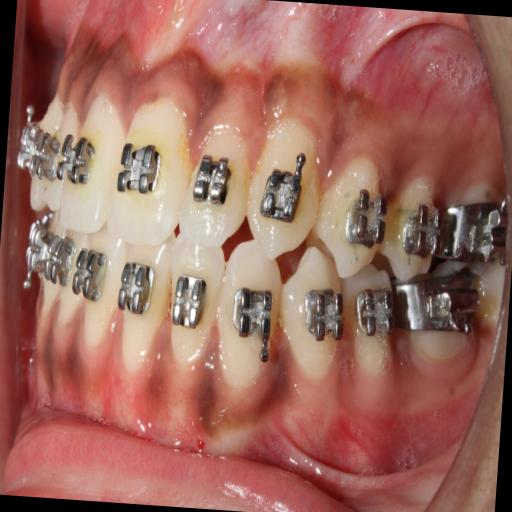correct_brace: (277, 242, 353, 381), (314, 158, 390, 283), (299, 279, 349, 348), (114, 136, 164, 202), (257, 162, 306, 226), (230, 278, 276, 346), (167, 266, 209, 332), (191, 154, 233, 208), (59, 134, 97, 192)
incorrect_brace: (176, 120, 253, 258), (162, 235, 228, 378), (344, 188, 388, 242)
